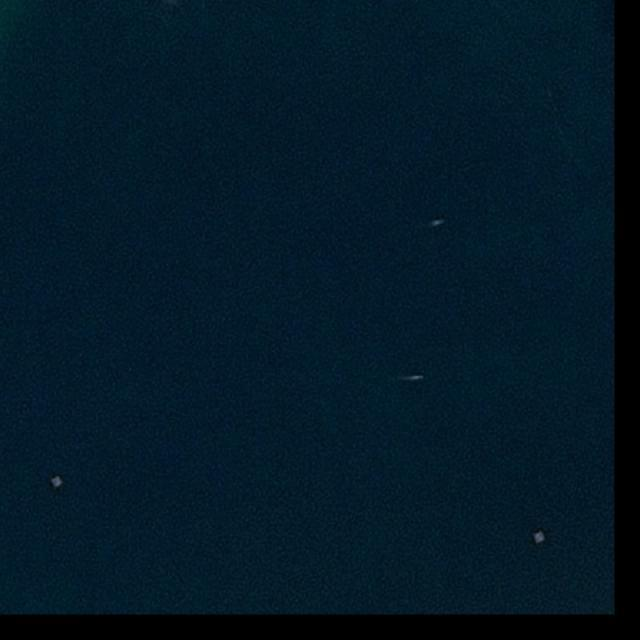ship: (430, 218, 446, 228), (410, 374, 422, 380)
